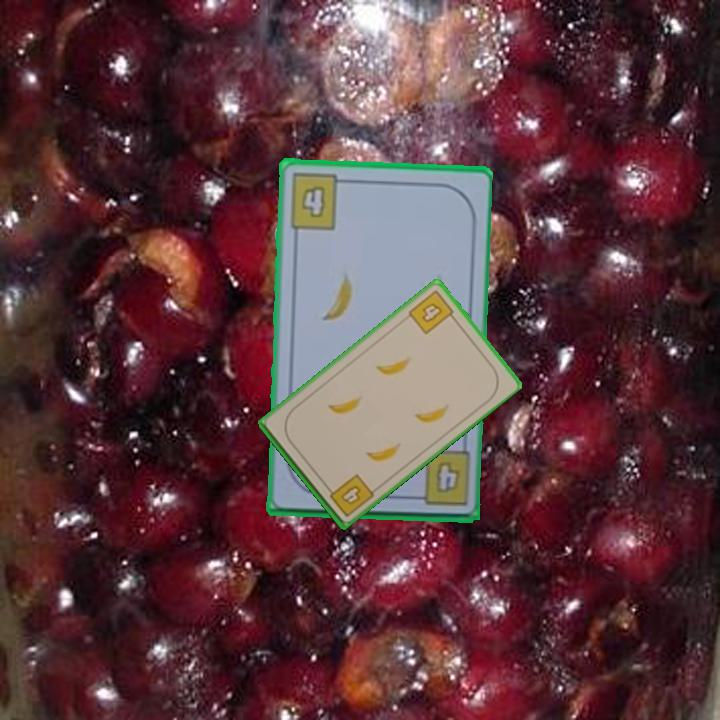4b: (285, 170, 351, 233), (406, 447, 473, 509), (404, 286, 460, 337), (322, 470, 377, 520)
